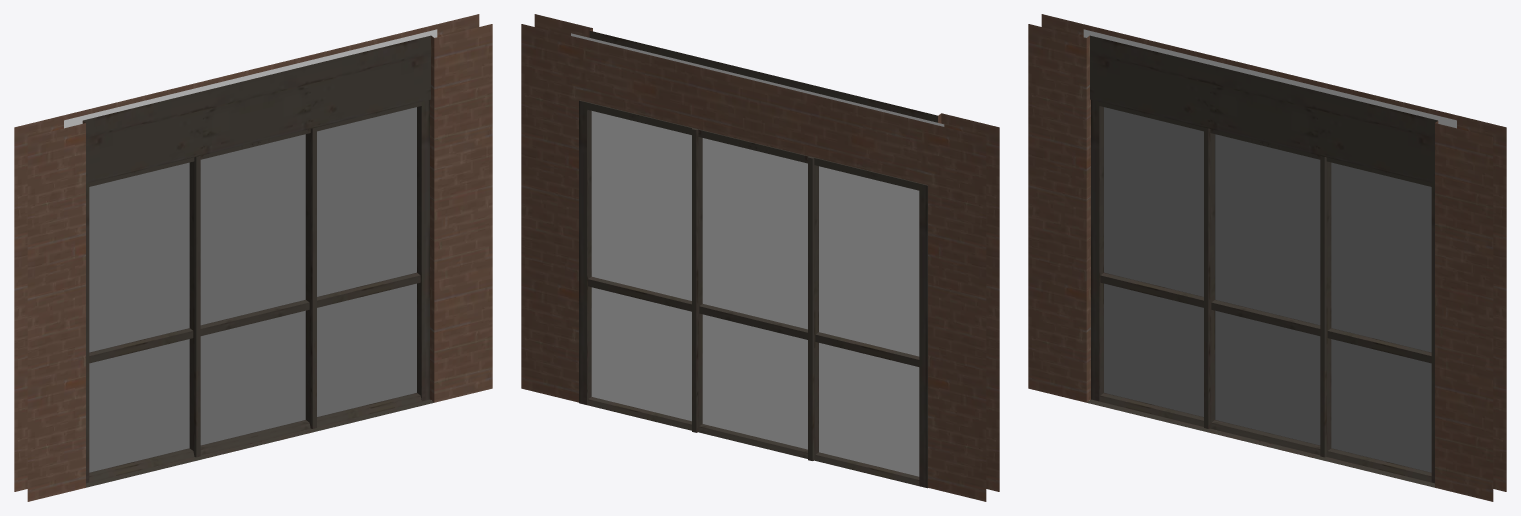
The model's file is Metal_Window.glb.
3 renders of one model, left to right at view 1: azimuth 30°, elevation 25°; view 2: azimuth 150°, elevation 25°; view 3: azimuth 330°, elevation 25°, orthographic.
Parts seen in each view (by area): view 1: Metal_Window; view 2: Metal_Window; view 3: Metal_Window.
Part boxes in pixels (left/top/right/bottom): Metal_Window: left=14, top=14, right=492, bottom=501; Metal_Window: left=521, top=14, right=999, bottom=501; Metal_Window: left=1028, top=14, right=1506, bottom=501.
Size of the model in its own units: 4 by 3 by 0.2236.
Materials: 4 (2 with a texture image).
